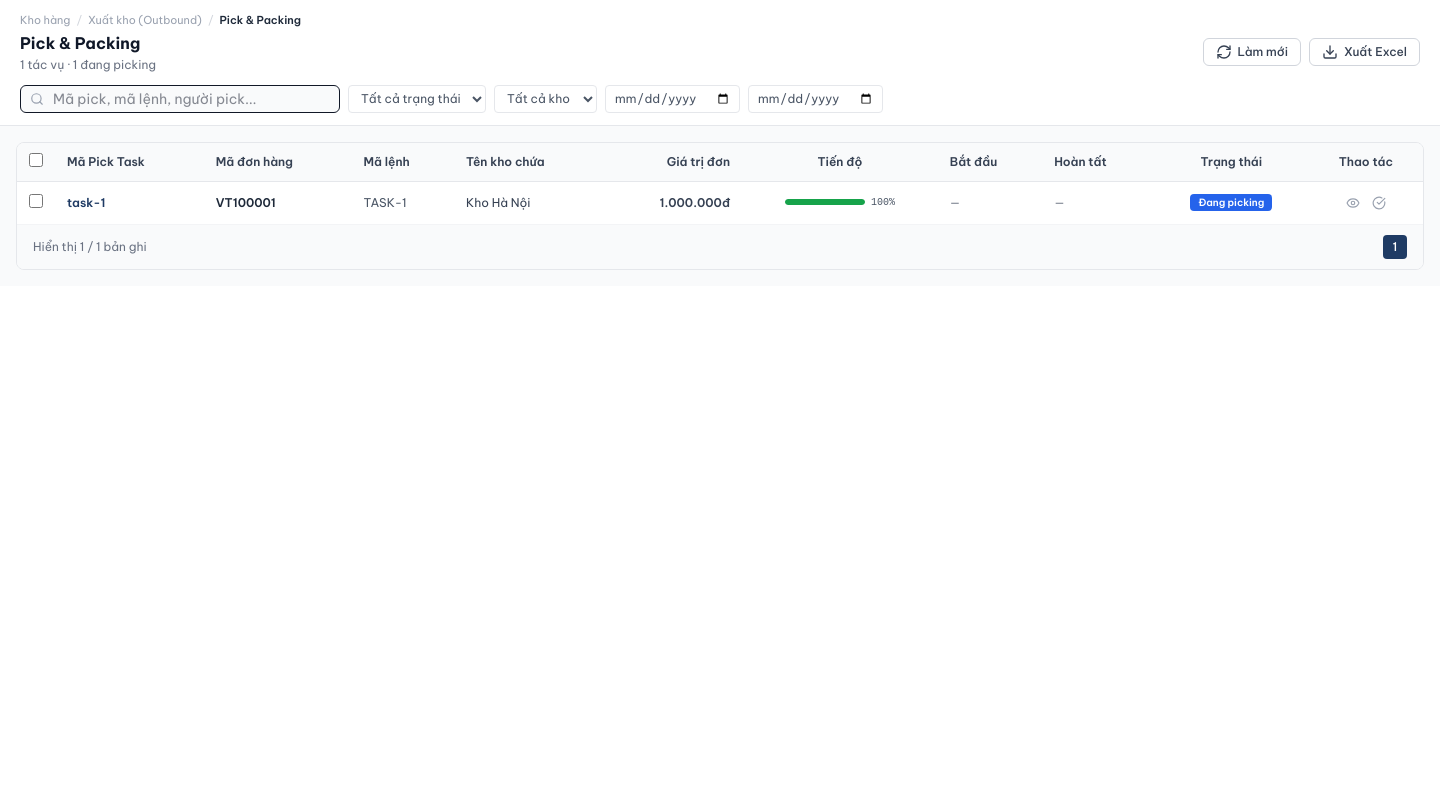
it: WarehousePickPacking · bằng chứng đóng gói bắt buộc + xác nhận 2 bước › L1-PACK-01 nút Hoàn tất Packing bị khoá khi thiếu bằng chứng
Click the 3rd button at (1353, 202), box [1342,192,1364,214]
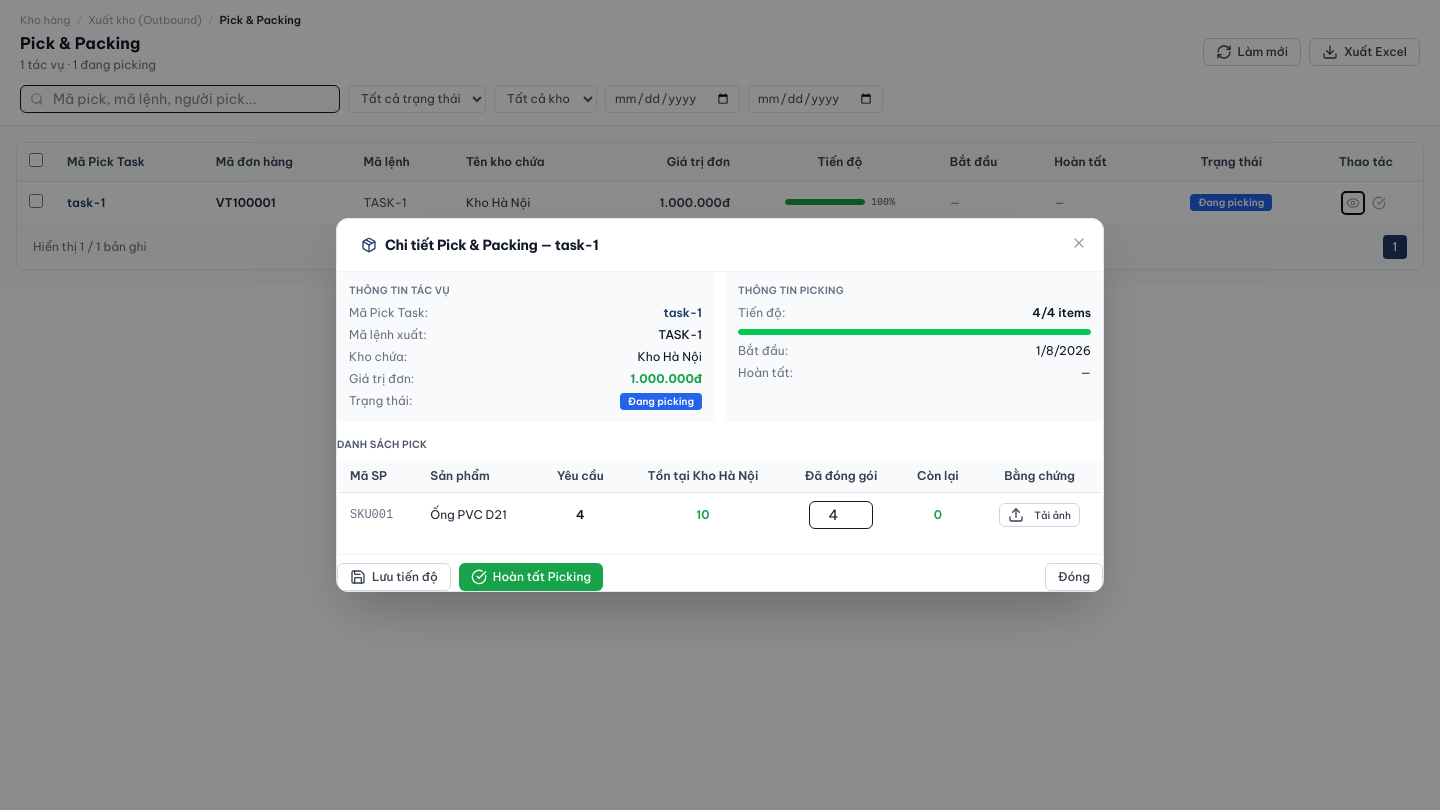
Check: the heading "Chi tiết Pick & Packing — task-1" is shown, box [361,236,598,254]
Click the button "Hoàn tất Picking" at (531, 578), box [459,564,603,592]
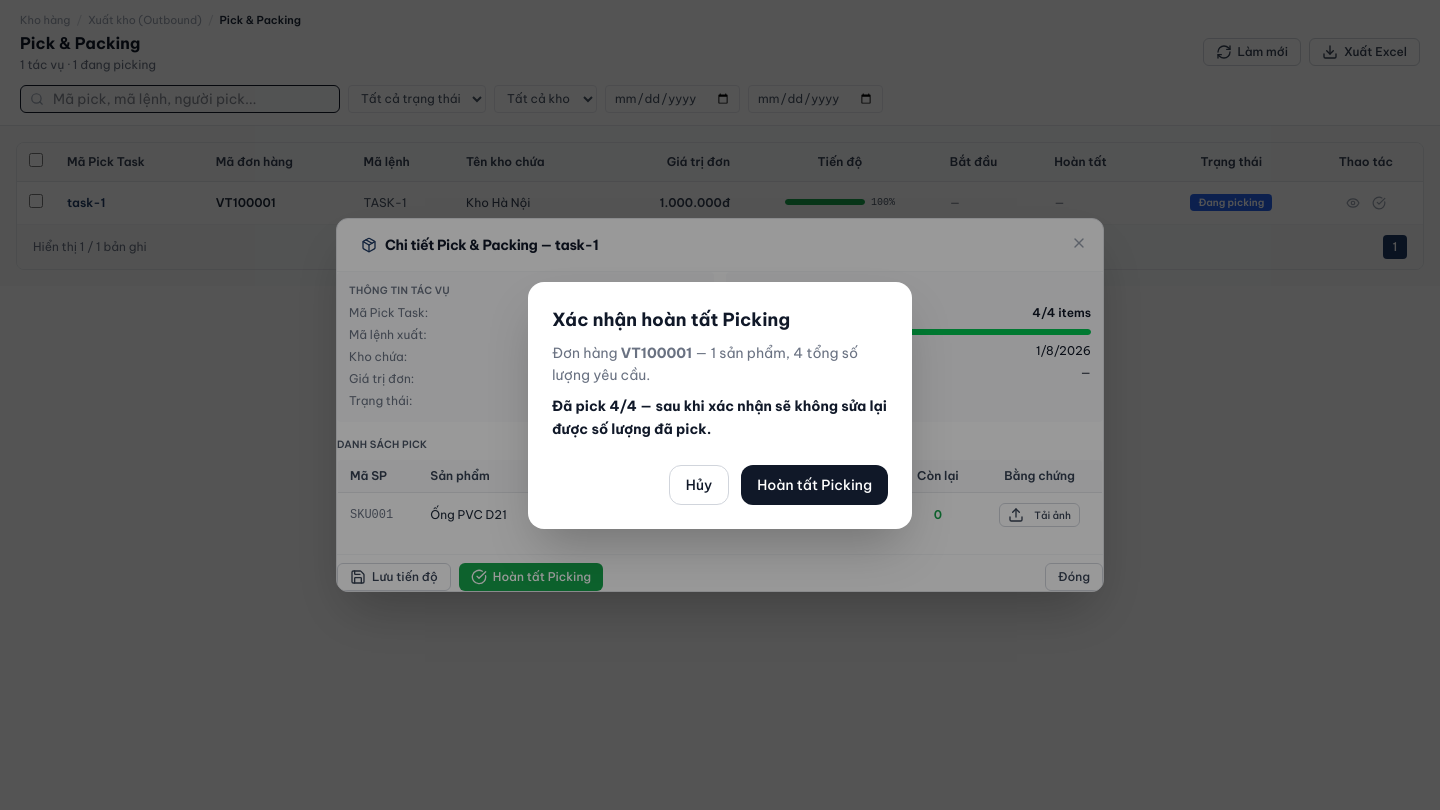
Click the button "Hoàn tất Picking" at (815, 484), box [741,464,888,504]
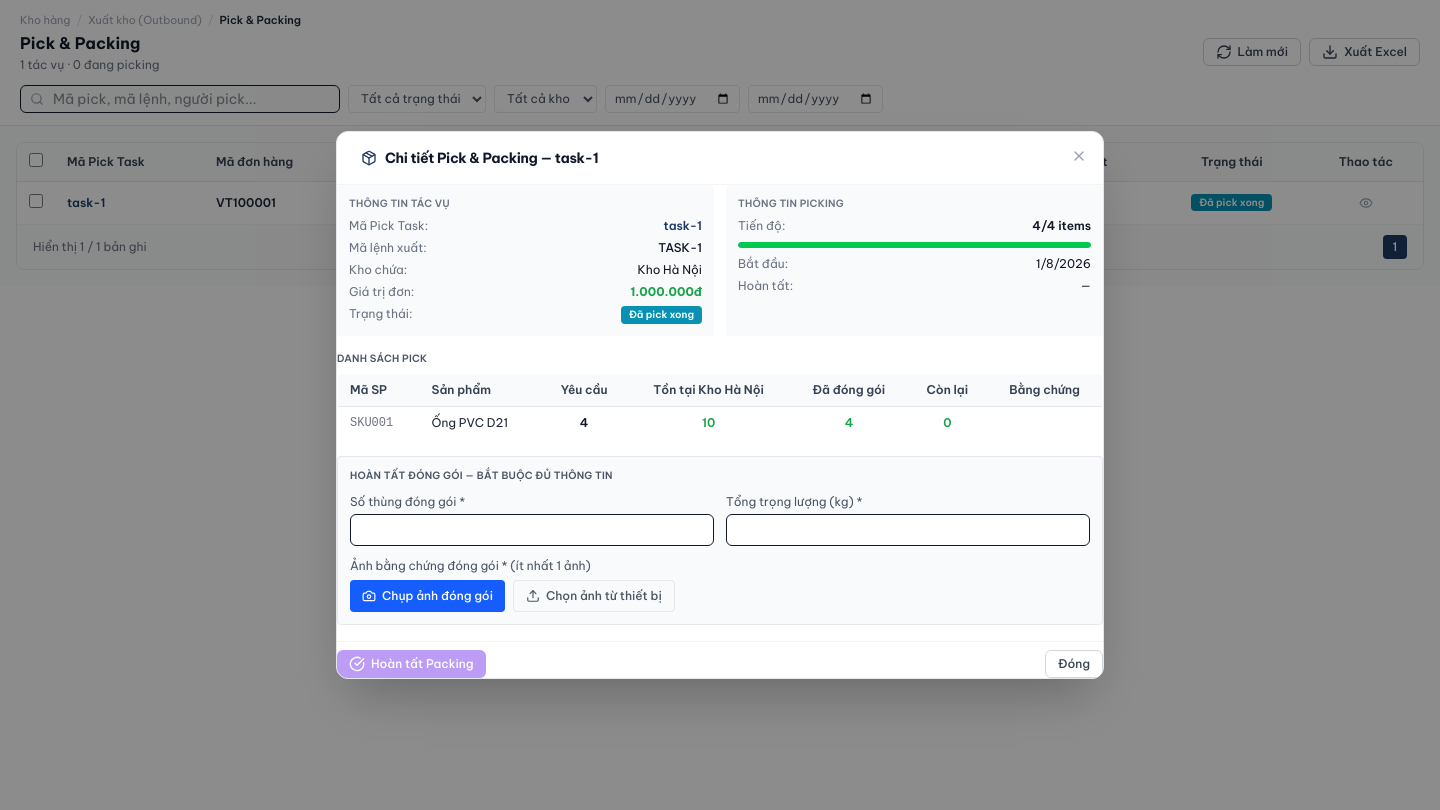
Check: the button "Hoàn tất Packing" is disabled, box [337,650,486,678]
